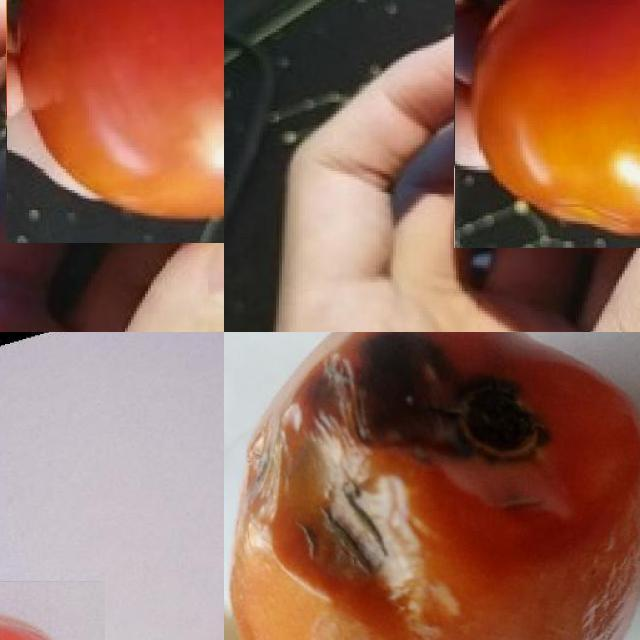Fresh Tomato: (454, 0, 640, 248)
Rotten Tomato: (224, 332, 640, 640), (6, 0, 224, 242)
